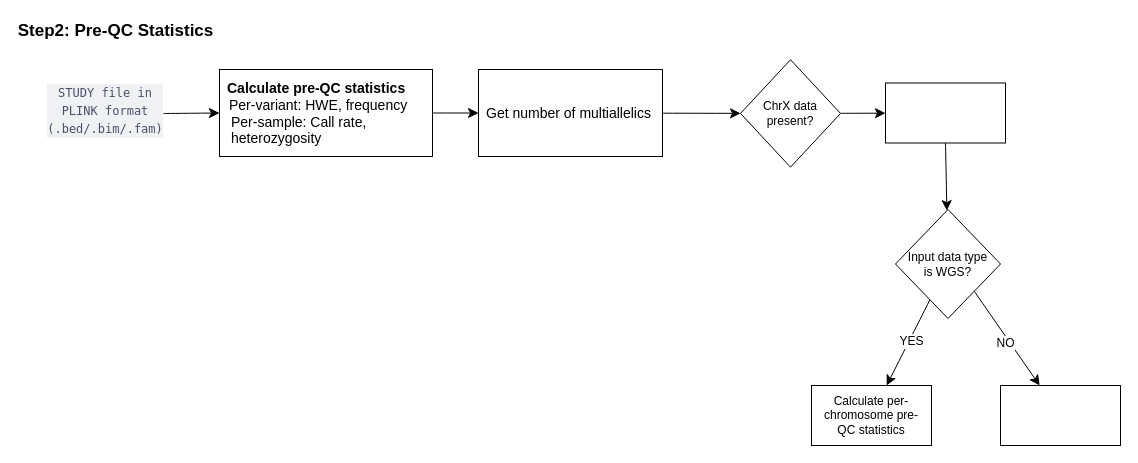
Image size: 1138x463. Some labels were removed from this diagram. The centre of each missing label's shape, as x and y in pixels:
Proceed to Step3: Basic QC: the point at 1060,415
Run sex check using PLINK1.9: the point at 945,112
